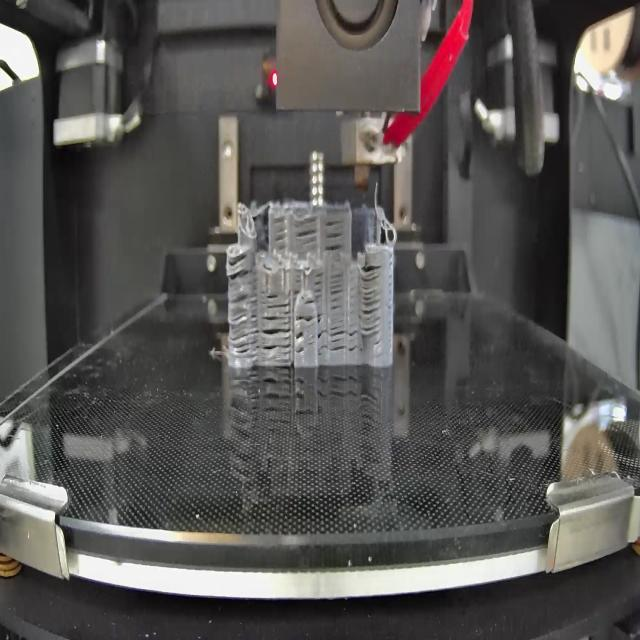cracks: (230, 293, 258, 361), (359, 261, 384, 337), (264, 312, 291, 362), (318, 326, 360, 356), (324, 216, 345, 256), (296, 218, 318, 254), (229, 250, 253, 282), (273, 214, 288, 254), (330, 272, 345, 310), (268, 288, 290, 310), (296, 310, 322, 325), (295, 327, 305, 358), (293, 268, 304, 296), (314, 272, 324, 302), (304, 298, 314, 306)
